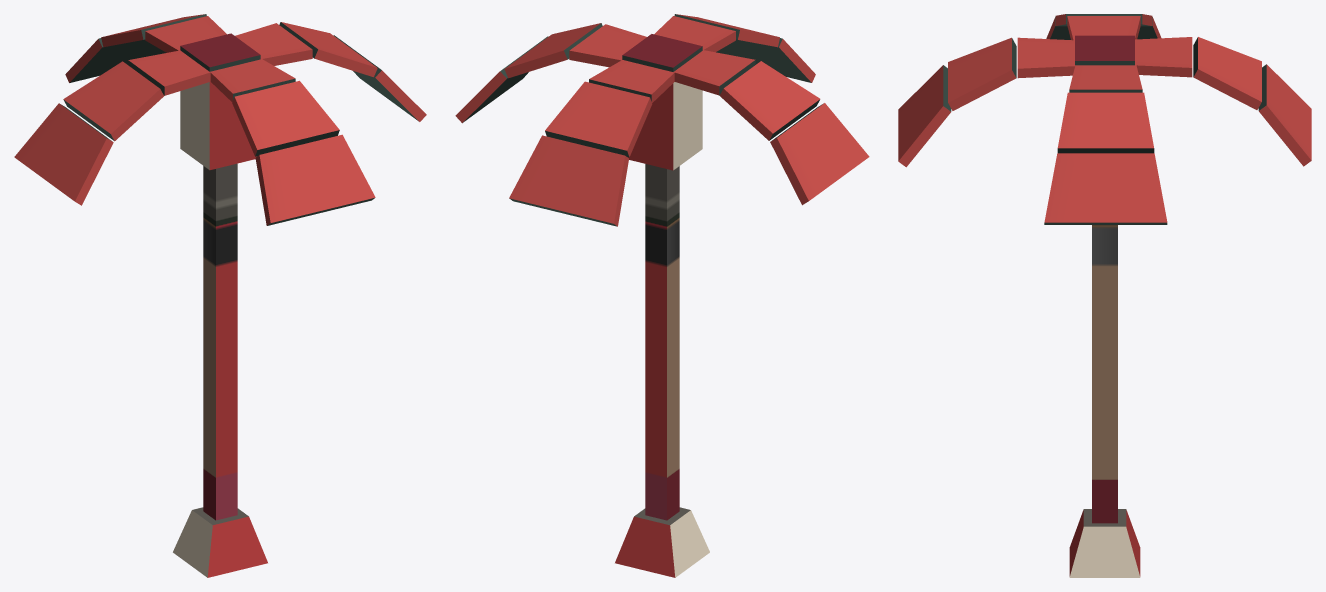
Rendered from SM_Env_Palm_03.gltf.
3 renders of one model, left to right at view 1: azimuth 30°, elevation 25°; view 2: azimuth 150°, elevation 25°; view 3: azimuth 270°, elevation 25°, orthographic.
Visible parts, largest first — view 1: SM_Env_Palm_03; view 2: SM_Env_Palm_03; view 3: SM_Env_Palm_03.
Boxes of the visible parts, box(x1,y1,x2,y2) form: SM_Env_Palm_03: box(14, 14, 426, 577); SM_Env_Palm_03: box(455, 14, 869, 577); SM_Env_Palm_03: box(898, 14, 1311, 577).
Bounding box in the file's own units: 7.7 × 10.57 × 7.7.
Materials: 1 (1 with a texture image).
